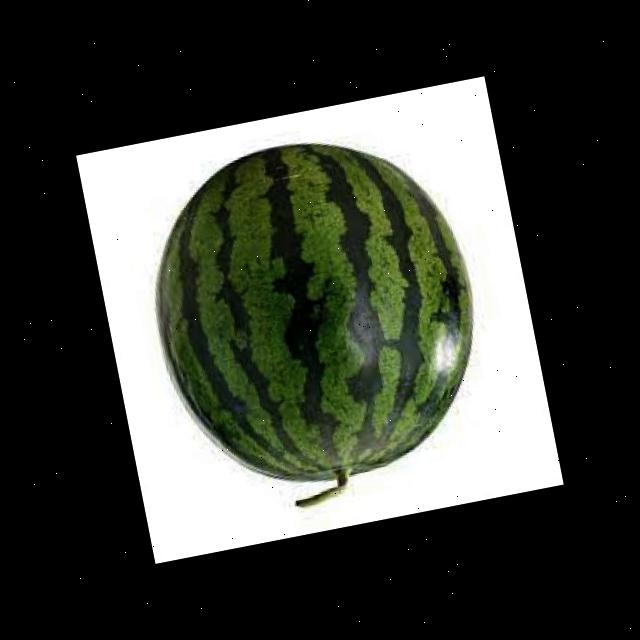watermelon: (128, 115, 504, 507)
